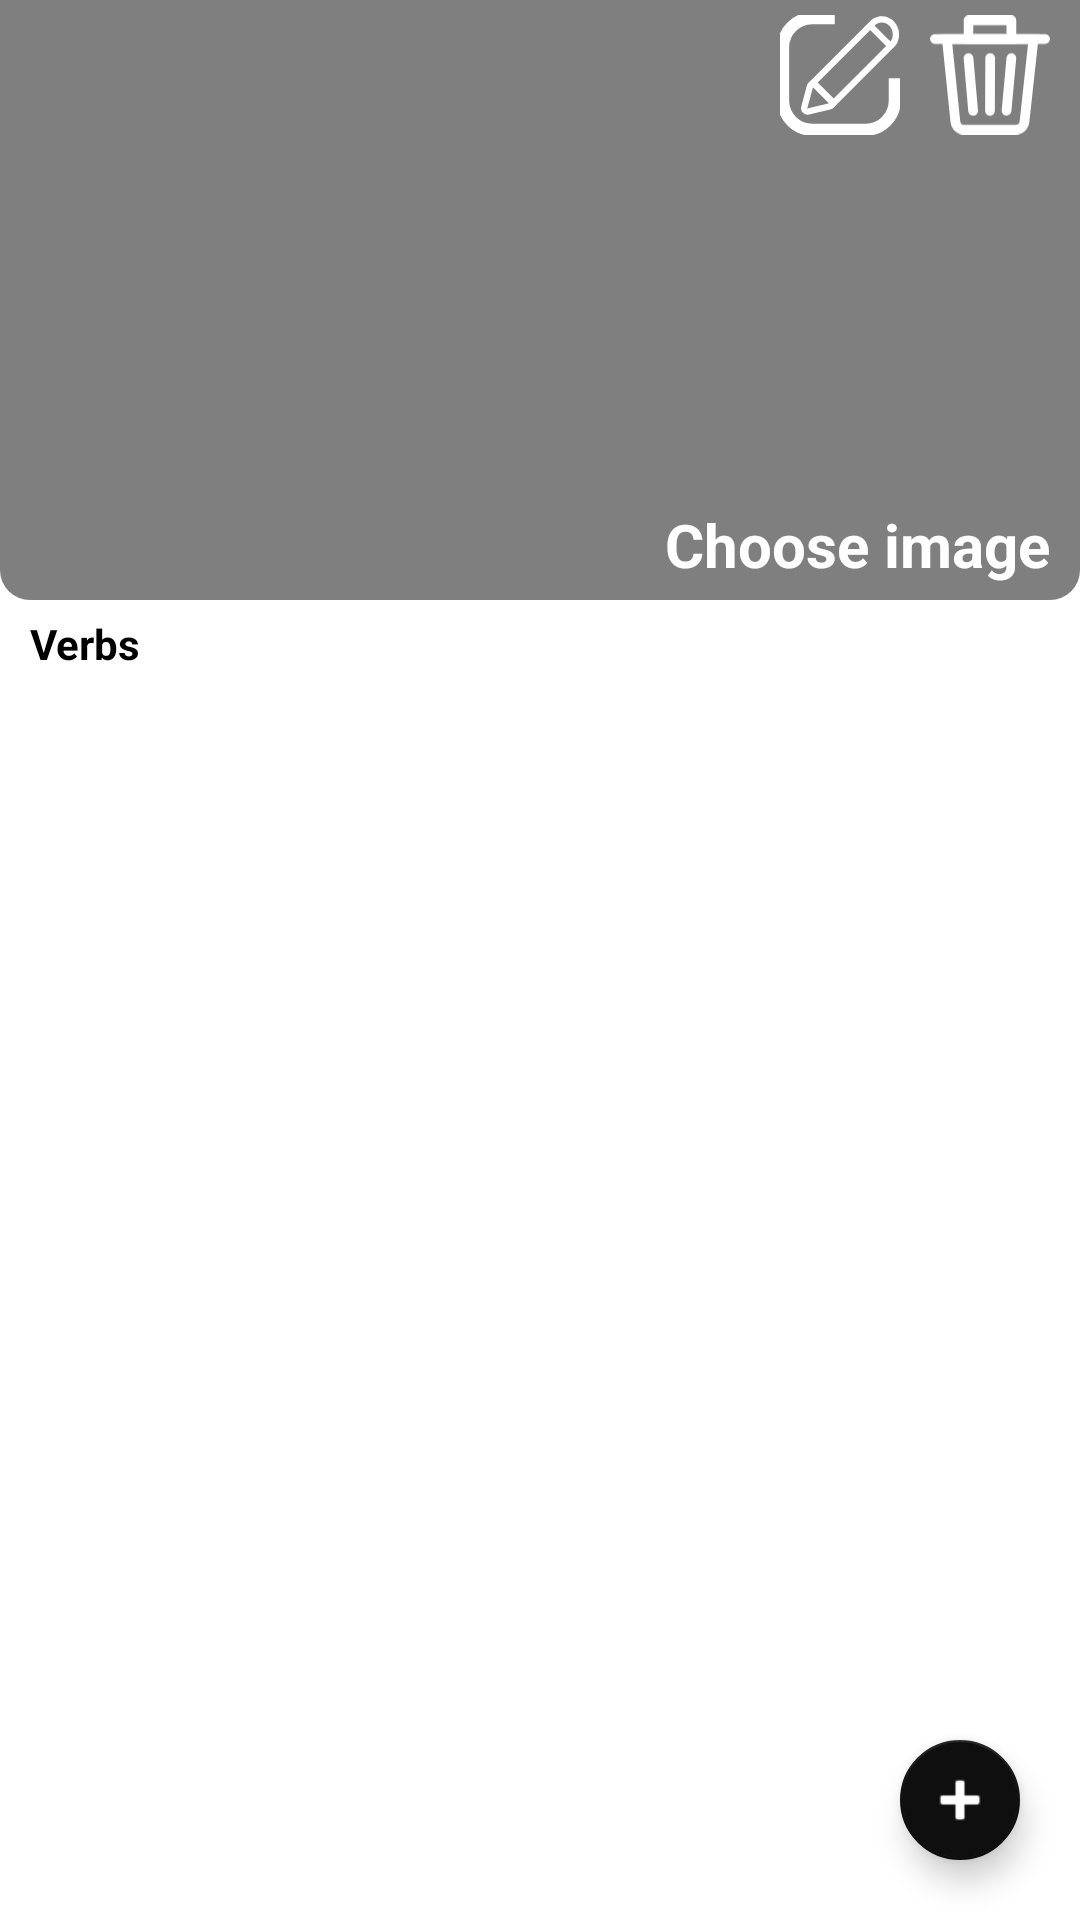

Icons on this 1080 x 1920 Android screen, each with its box as (x1, y1, x2, y2):
Create: (900, 1740, 1022, 1872)
delete: (930, 15, 1050, 135)
edit: (780, 15, 900, 135)
